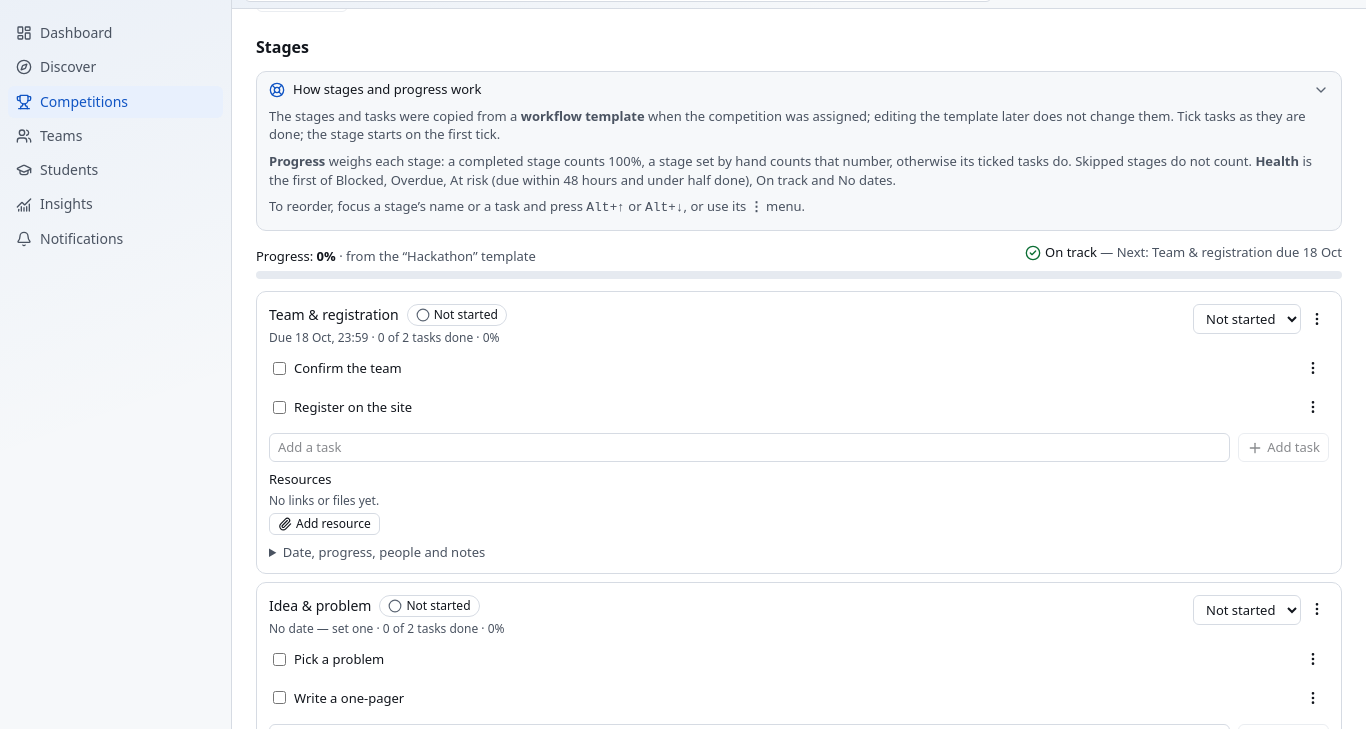
Scenario: the workflow on the Competition page › a stale version says so in the house words and offers a reload
The image size is (1366, 752).
(page scrolled)
Click the checkbox labelled "Confirm the team".
click(280, 368)  # box [273,362,286,375]
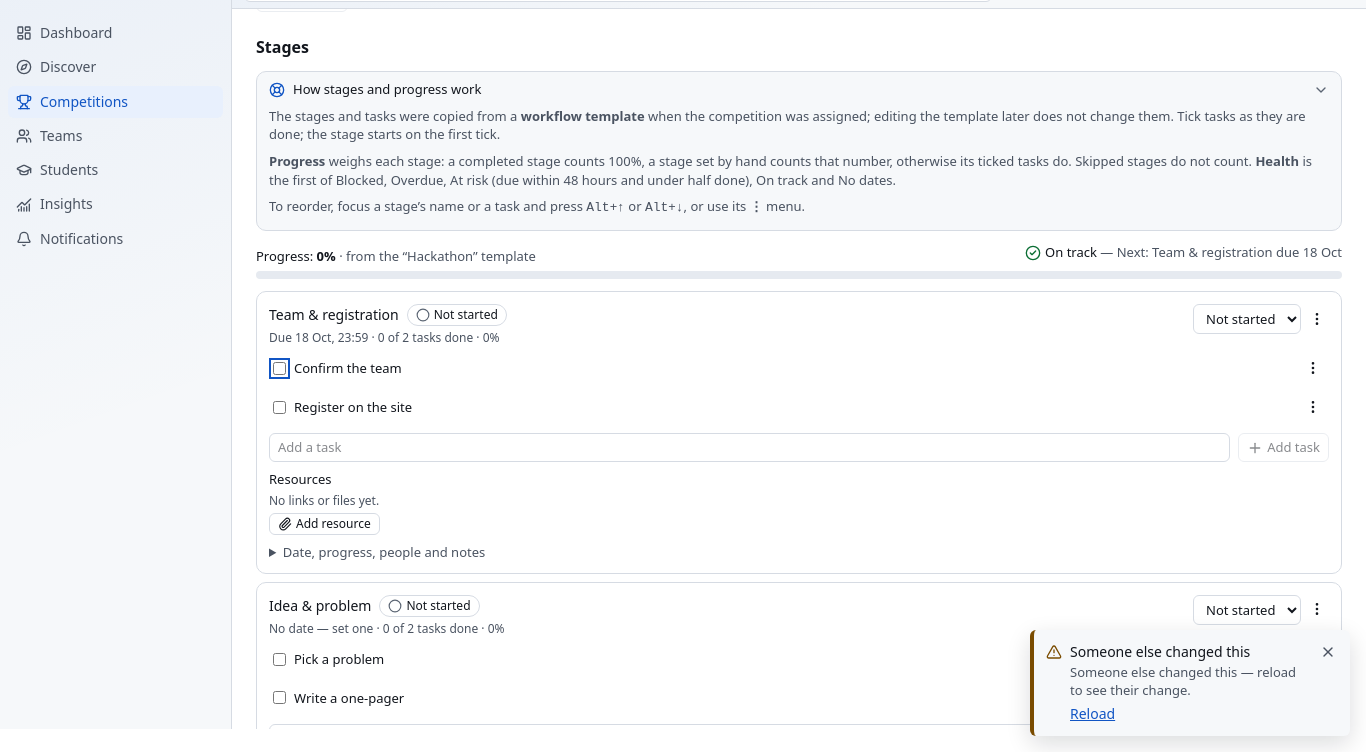
Expected: the text "Someone else changed this" is shown, [1069,641,1250,661]
Expected: the text "Someone else changed this — reload to see their change." is shown, [1070,663,1310,700]
Expected: the button "Reload" is shown, [1070,704,1115,724]
